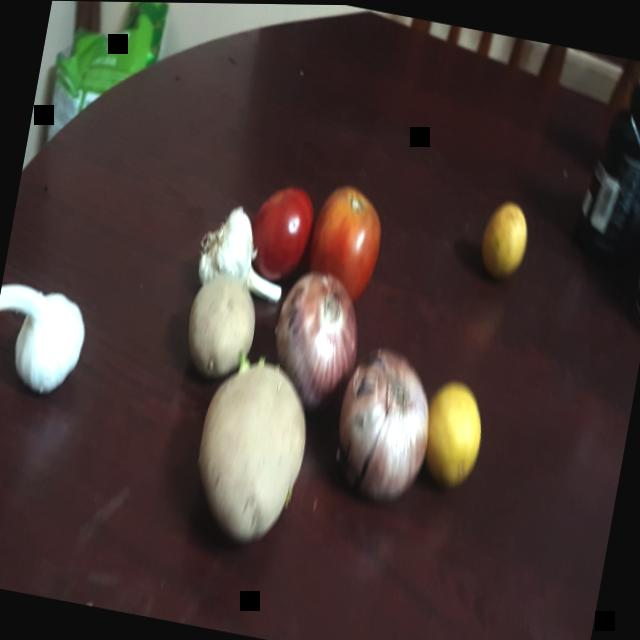garlic: (0, 246, 108, 408), (179, 198, 297, 311)
lemon: (410, 369, 496, 496), (468, 190, 540, 284)
onion: (325, 333, 446, 512), (260, 259, 368, 416)
potato: (173, 344, 325, 548), (170, 269, 267, 388)
tomato: (299, 173, 399, 307), (244, 167, 324, 293)
